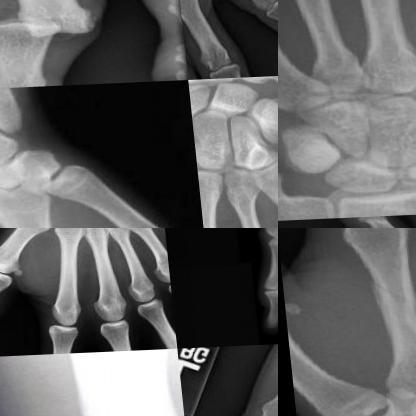fracture: (354, 269, 415, 333), (93, 228, 108, 239)
